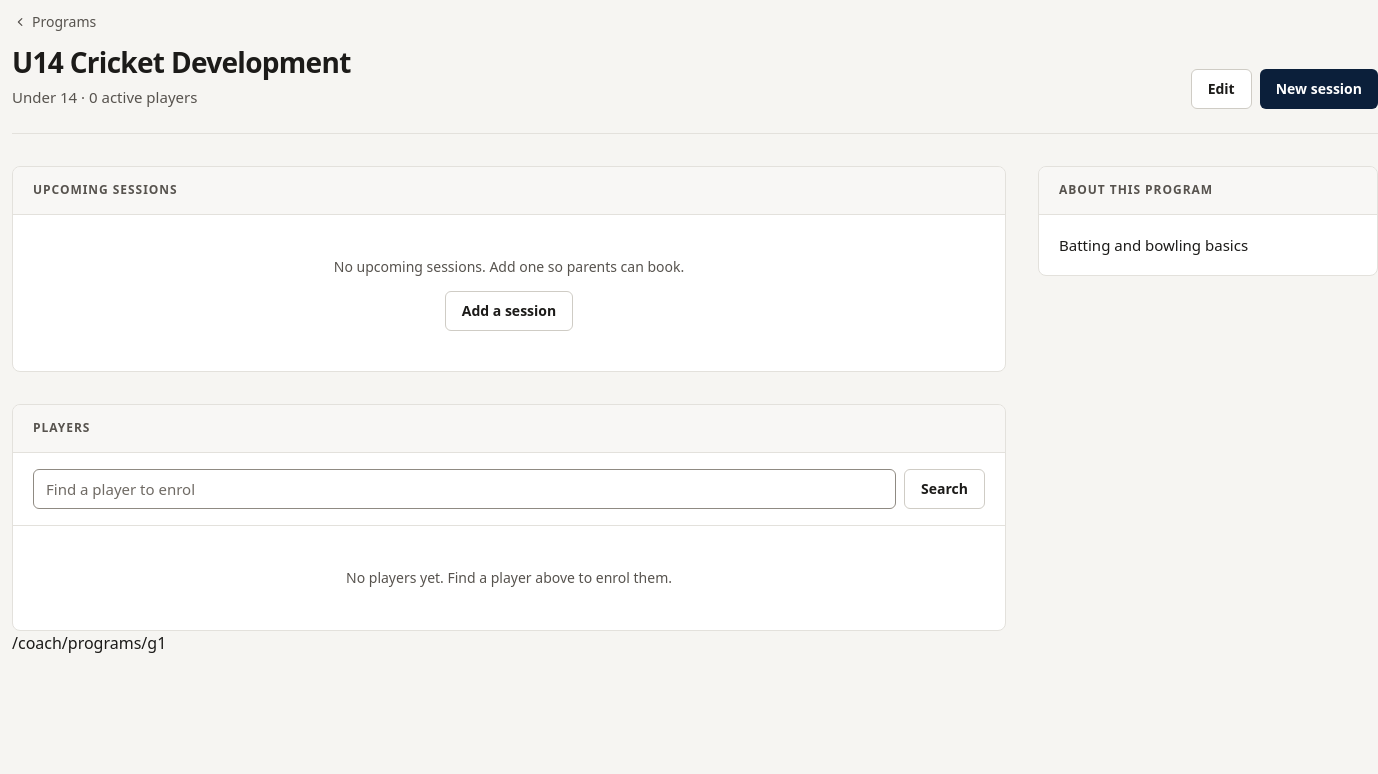
Test: coach program pages › searches for a player and enrols them
Type "sam" into the field named "Player name" at (465, 488), box [33,468,896,508]
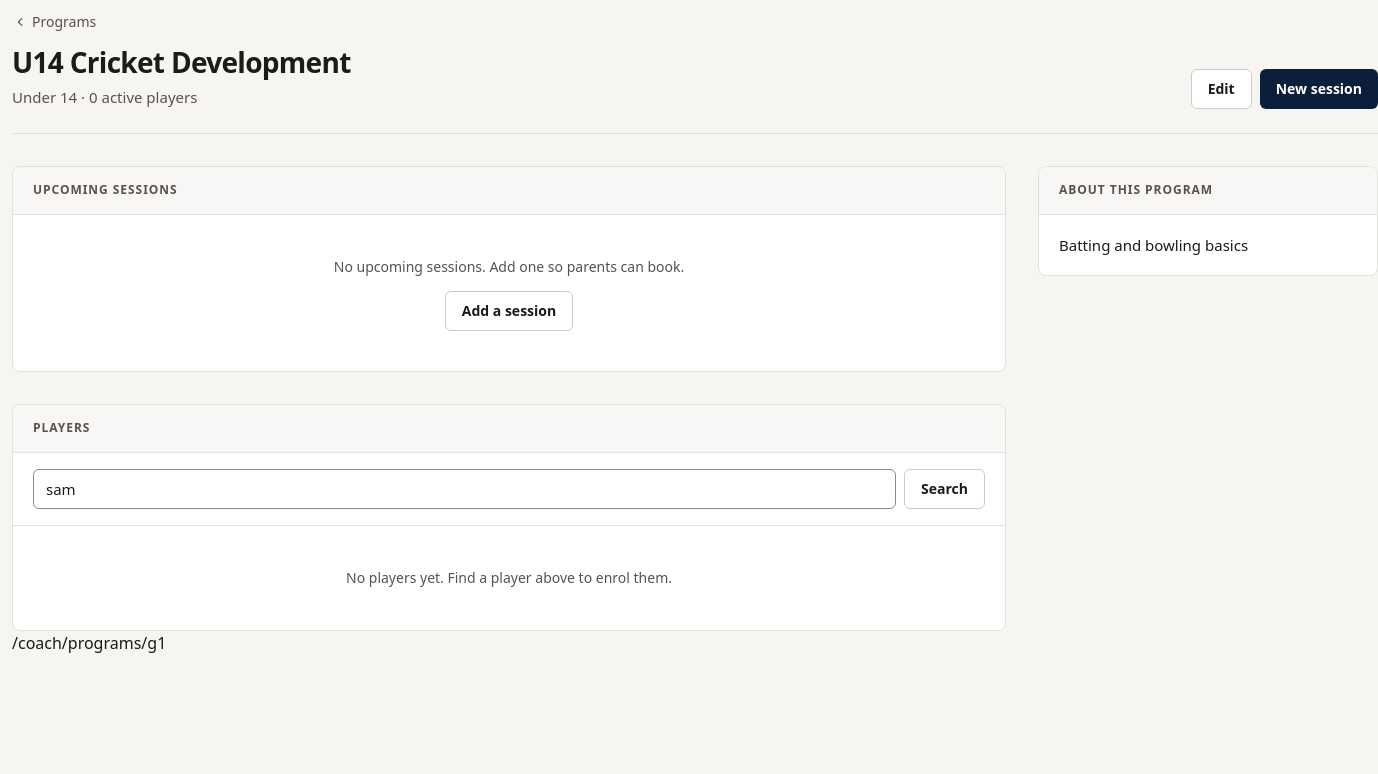
Click the button "Search" at (945, 488), box [904,468,985,508]
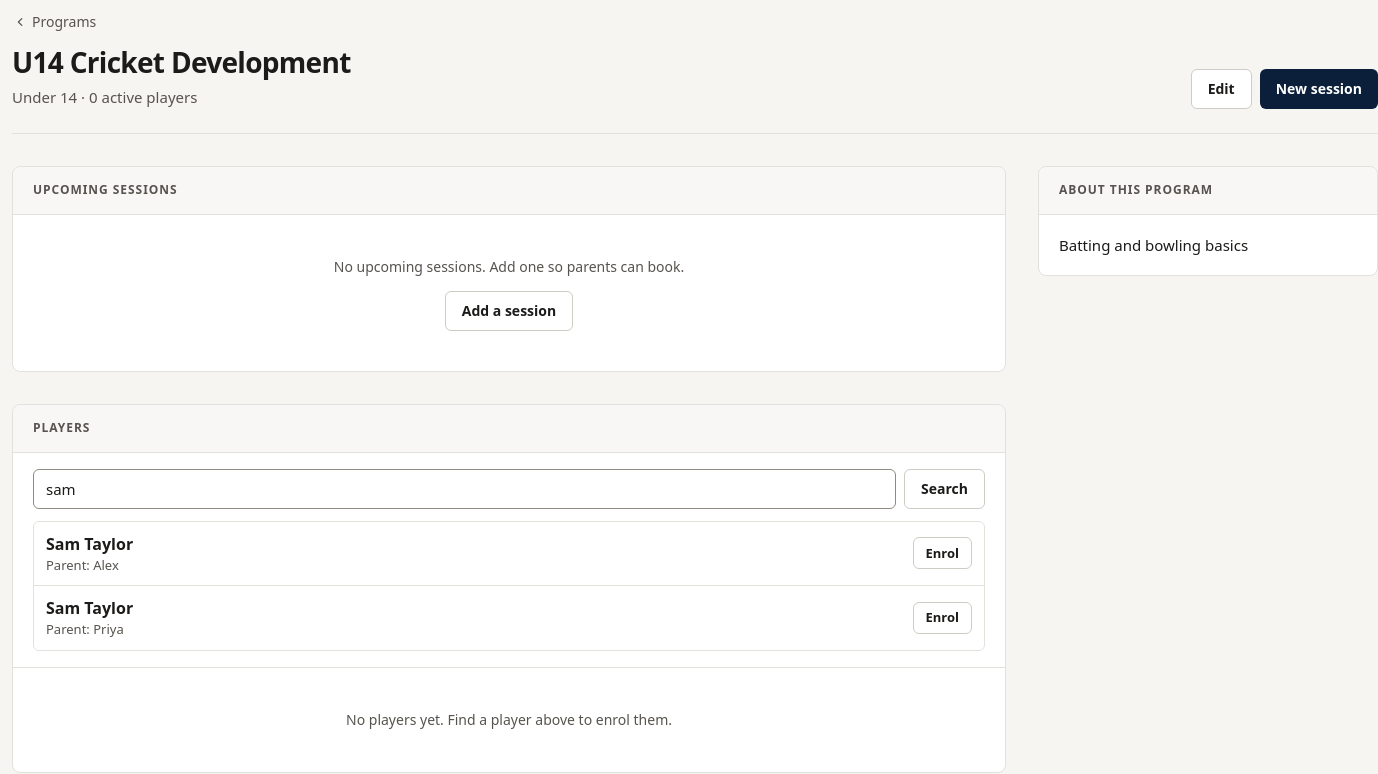
Expected: the text "Parent: Alex" is shown, [46,556,119,574]
Expected: the text "Parent: Priya" is shown, [46,620,133,640]
Click the button with aria-label "Enrol Sam Taylor" at (942, 553), box [912,537,972,569]
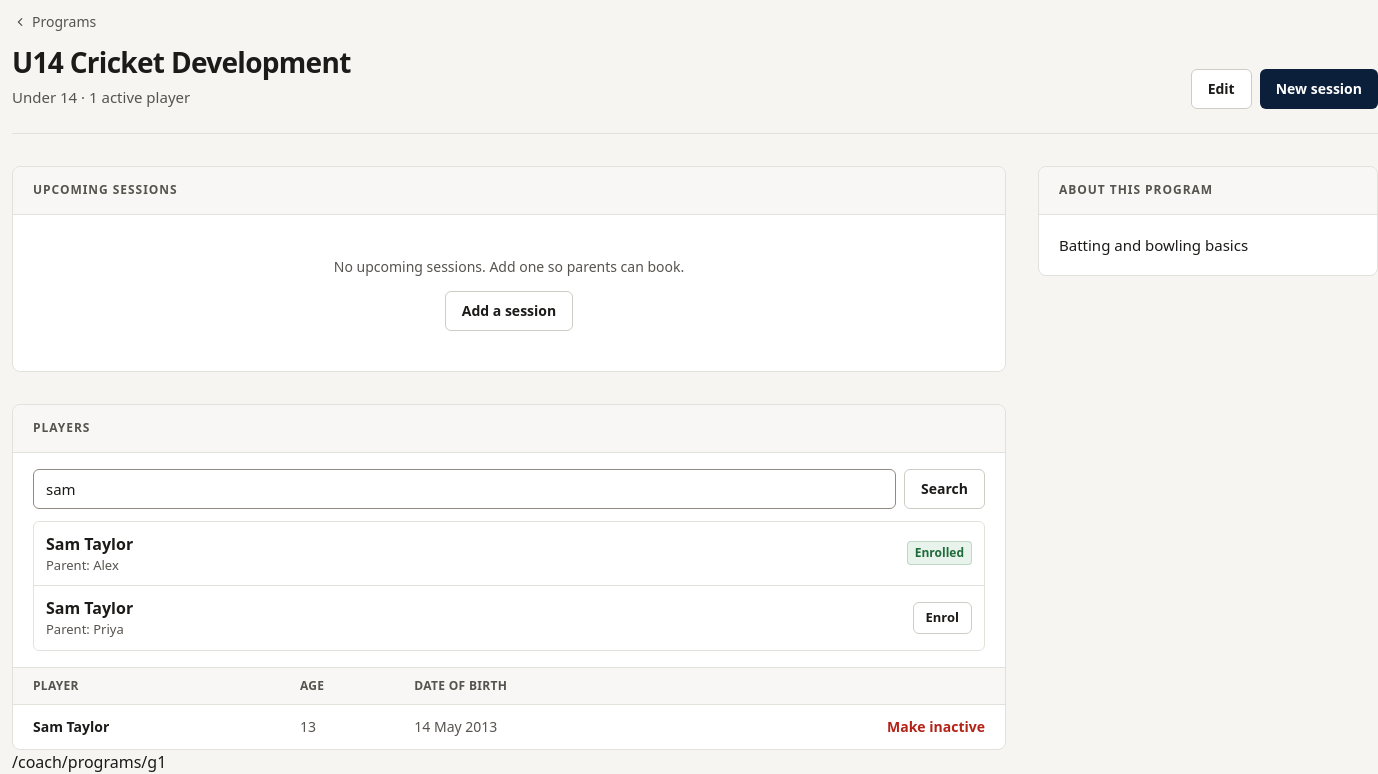
Expected: the text "14 May 2013" is shown, [402,704,679,748]
Expected: the text "Enrolled" is shown, [907,541,972,565]
